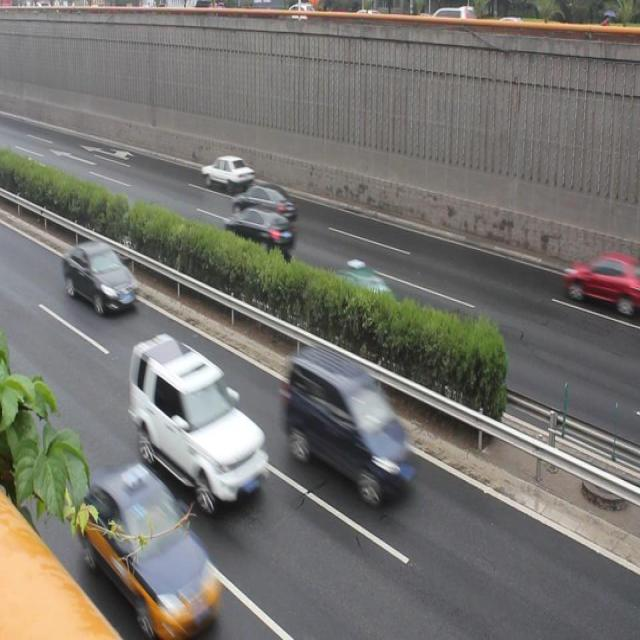car: (78, 464, 231, 629), (128, 336, 264, 502), (59, 239, 138, 307), (326, 254, 392, 317), (225, 204, 294, 255), (235, 181, 291, 222), (200, 149, 251, 190)
truck: (286, 345, 417, 502)
